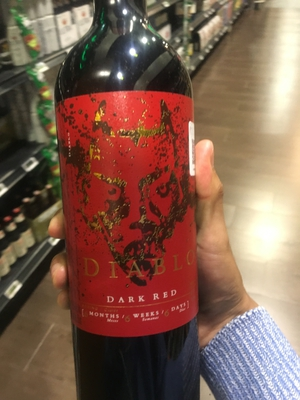diablo dark red: (53, 8, 214, 392)
